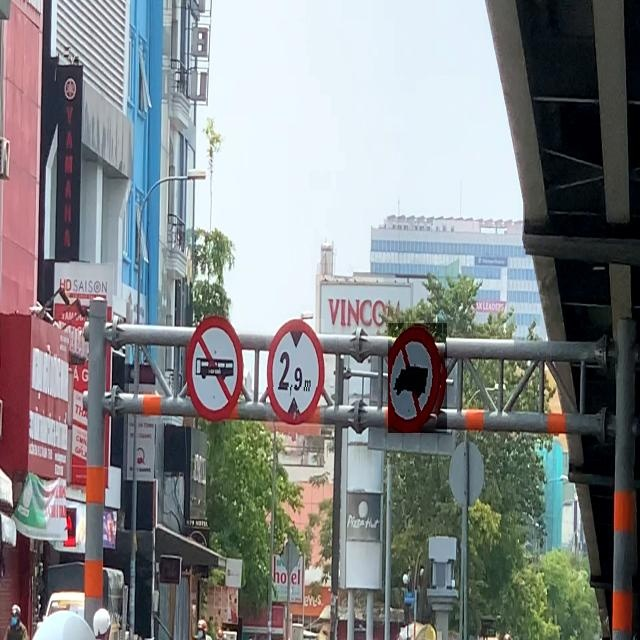bien_cam: (388, 323, 447, 433), (266, 319, 324, 426)
